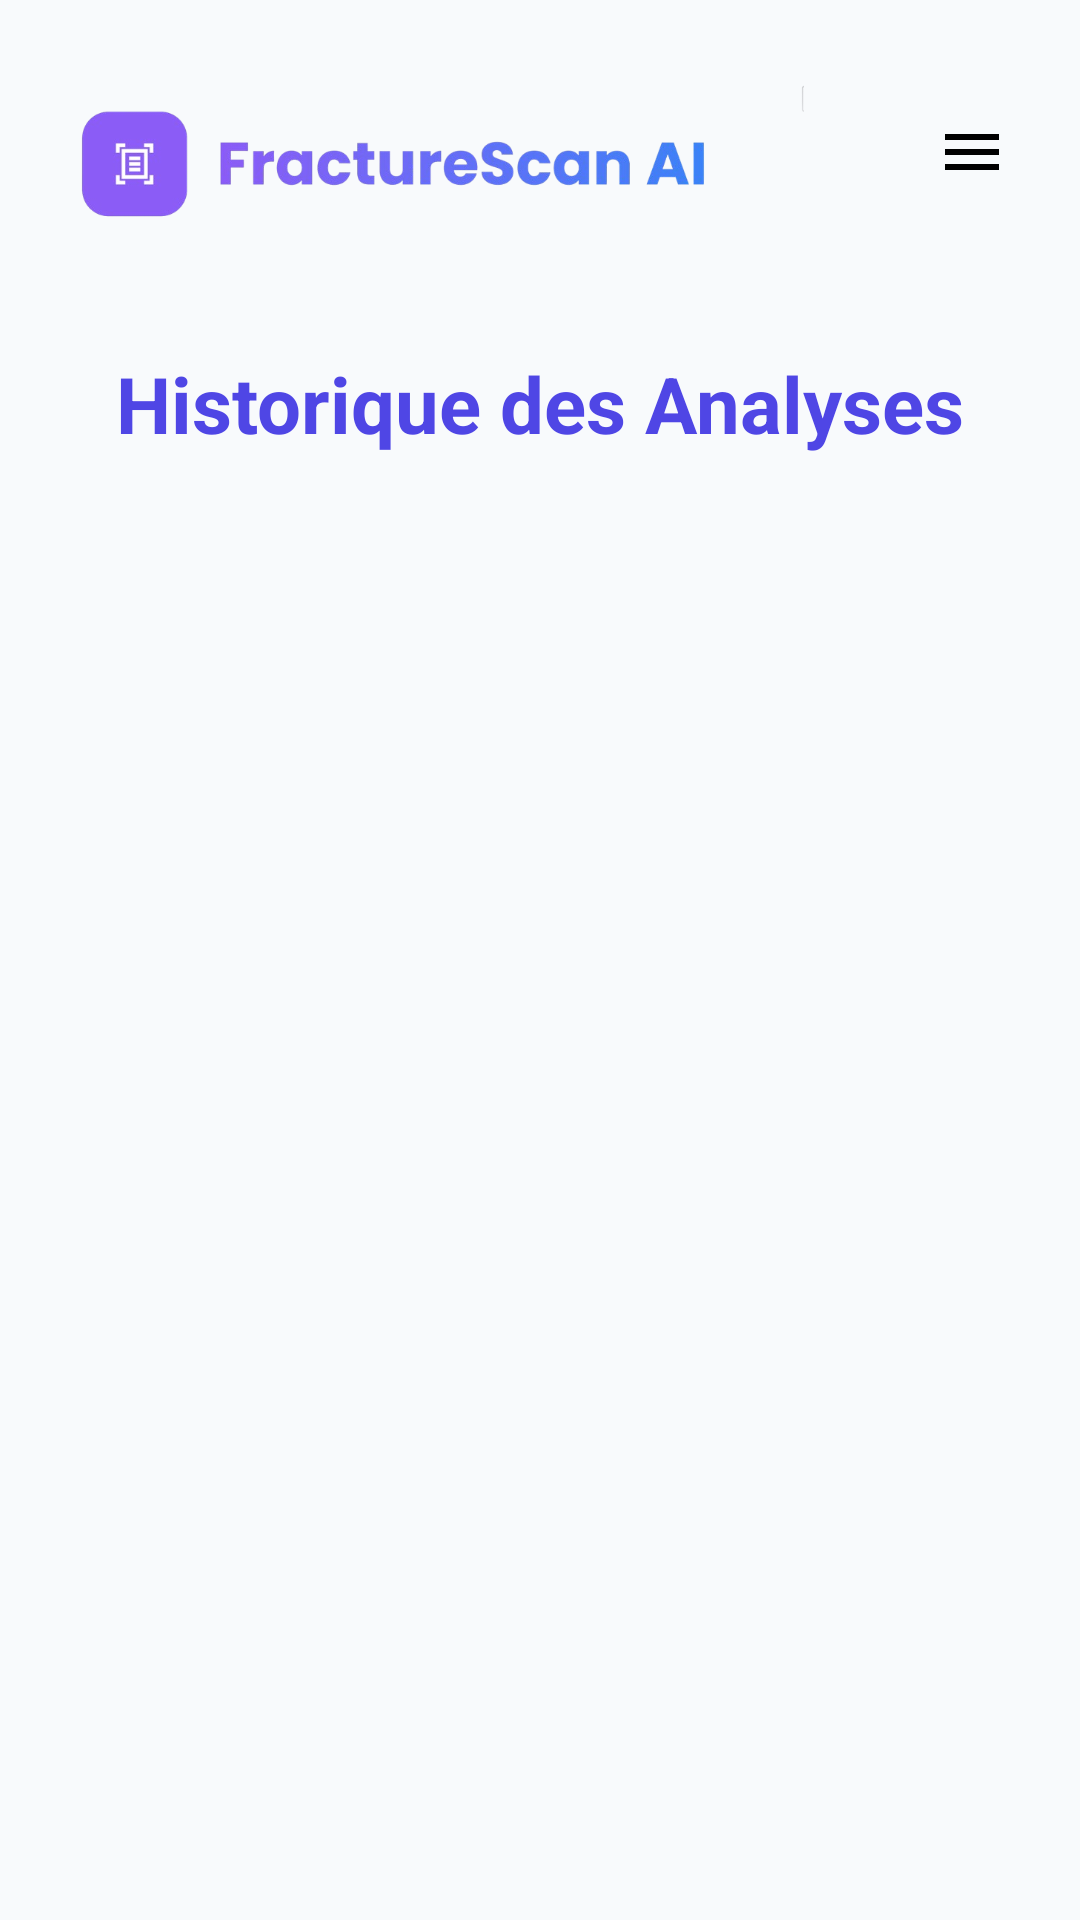

Where icons sit on this 1080px x 1920px app screen, as (x1, y1, x2, y2):
Menu: (945, 134, 999, 170)
